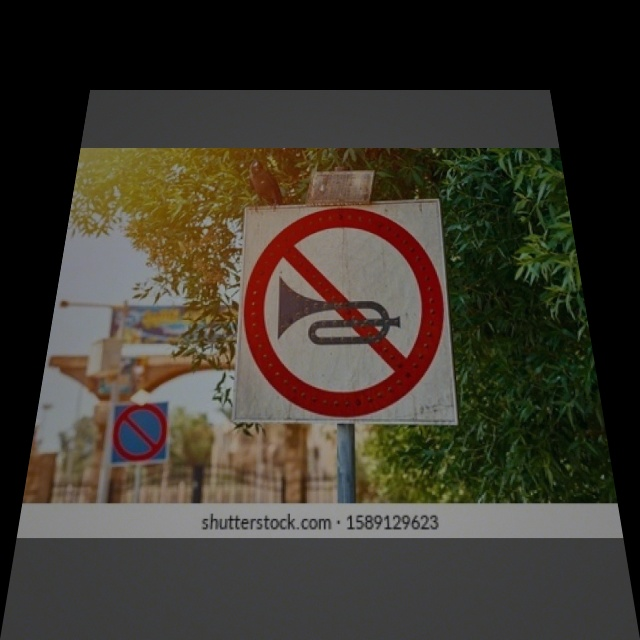Horn_Prohibited: (236, 205, 452, 418)
